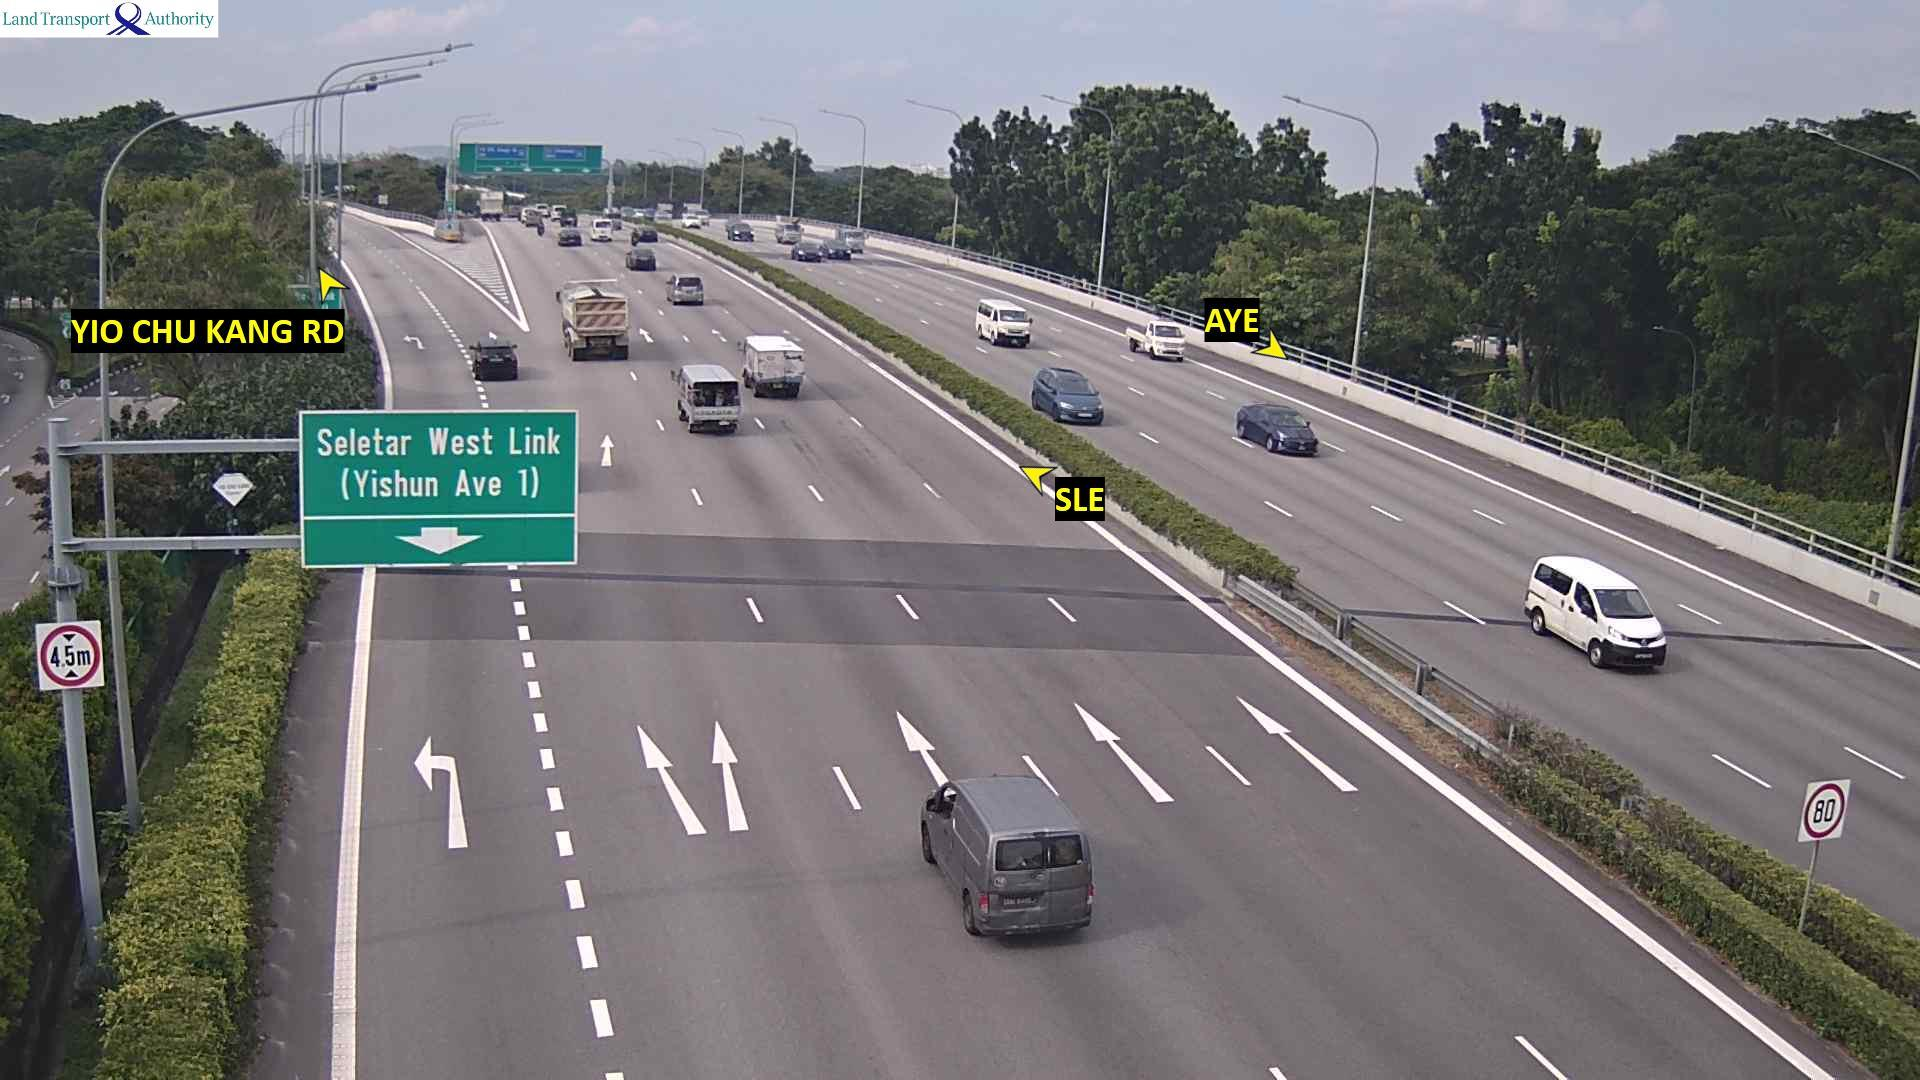cars: (919, 771, 1095, 938), (1522, 553, 1665, 670), (671, 363, 741, 433), (1234, 402, 1317, 455), (1031, 367, 1102, 425), (741, 334, 804, 397), (975, 298, 1033, 347), (1124, 319, 1185, 361), (469, 331, 518, 380), (666, 273, 703, 305), (624, 247, 655, 270), (791, 241, 824, 261), (820, 240, 851, 258), (727, 222, 754, 241), (589, 218, 612, 241), (630, 225, 657, 244), (556, 227, 582, 245), (653, 211, 679, 228), (524, 208, 545, 229), (691, 208, 713, 228), (550, 203, 571, 223), (560, 207, 580, 228), (680, 212, 702, 231), (534, 202, 551, 219), (620, 204, 637, 222), (520, 206, 534, 223), (644, 208, 659, 220)
motorcycle: (535, 215, 547, 239)
trucks: (554, 284, 629, 360), (475, 189, 506, 225), (835, 225, 870, 255), (774, 219, 806, 245), (502, 191, 527, 219)
